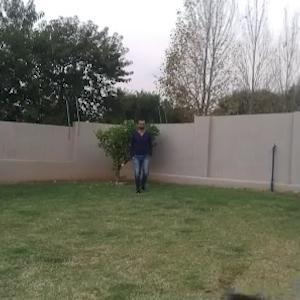follow: (130, 114, 151, 199)
